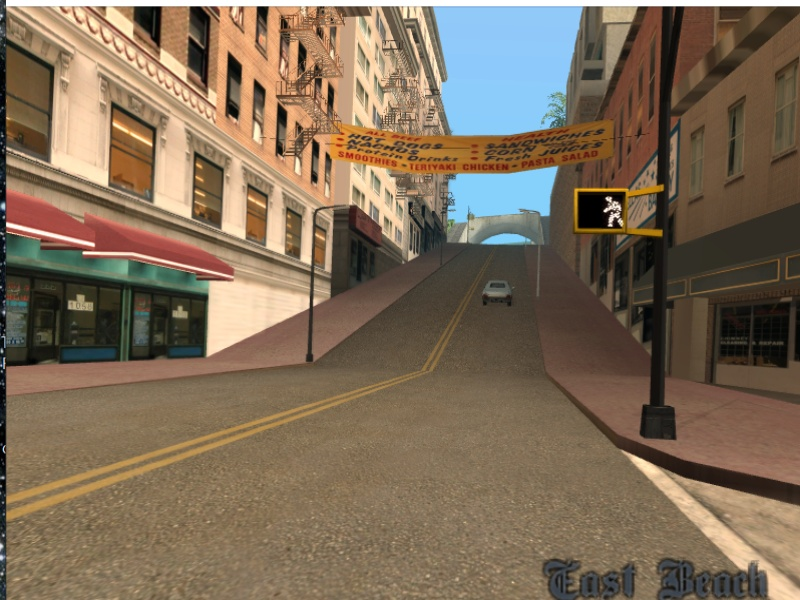pole: (639, 17, 679, 443), (307, 207, 318, 366), (534, 214, 544, 298)
vehicle: (479, 279, 516, 310)
